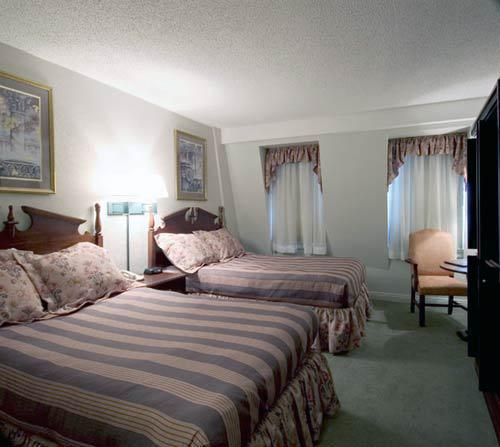Cama: (18, 243, 330, 429), (184, 228, 358, 300)
